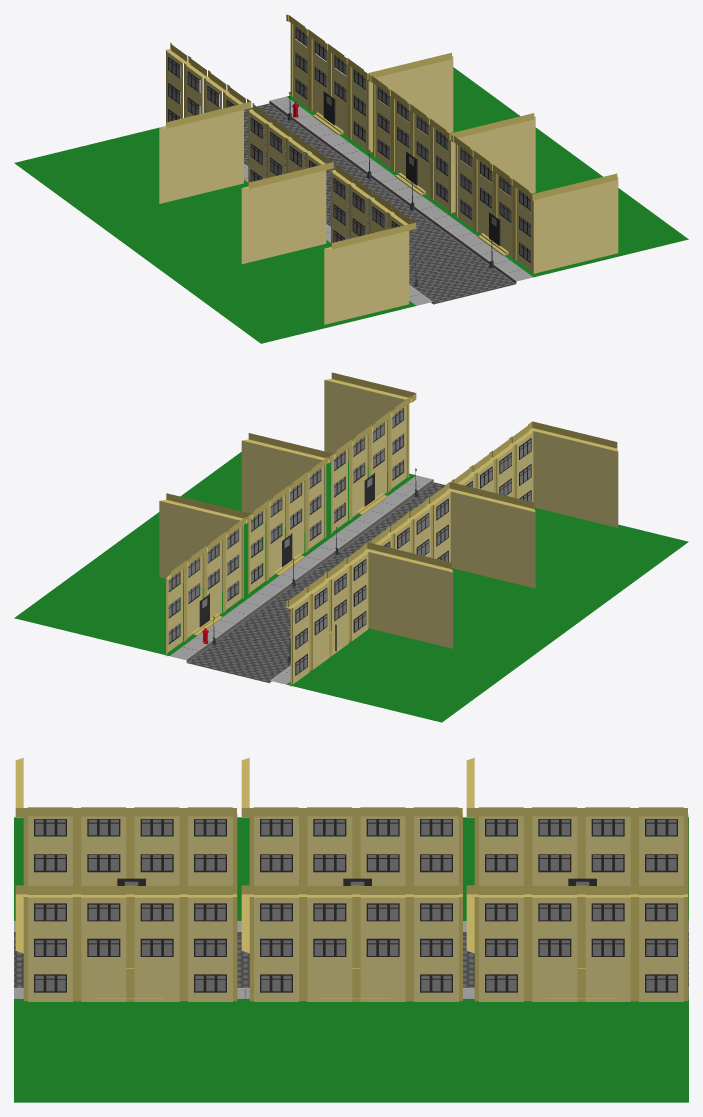
Rendered from house.glb.
The picture shows the model from 3 angles, top to bottom: view 1: azimuth 30°, elevation 25°; view 2: azimuth 150°, elevation 25°; view 3: azimuth 270°, elevation 25°; orthographic projection. The views are drawn at different scales.
Parts seen in each view (by area): view 1: Road, Building.003, Building.002, Building.004, Building.001, Building.006, Building.005; view 2: Road, Building.005, Building.006, Building.004, Building.001, Building.003, Building.002; view 3: Road, Building.002, Building.003, Building.001, Building.005, Building.006, Building.004.
Boxes of the visible parts, left/top/right/bottom form: Road: left=14, top=67, right=688, bottom=343; Building.003: left=451, top=135, right=618, bottom=273; Building.002: left=286, top=14, right=453, bottom=152; Building.004: left=241, top=103, right=333, bottom=264; Building.001: left=368, top=74, right=535, bottom=213; Building.006: left=324, top=163, right=416, bottom=324; Building.005: left=159, top=42, right=251, bottom=203; Road: left=14, top=452, right=688, bottom=722; Building.005: left=286, top=542, right=453, bottom=686; Building.006: left=451, top=421, right=618, bottom=527; Building.004: left=368, top=482, right=535, bottom=588; Building.001: left=241, top=433, right=333, bottom=594; Building.003: left=324, top=372, right=416, bottom=533; Building.002: left=159, top=493, right=251, bottom=656; Road: left=14, top=817, right=688, bottom=1102; Building.002: left=466, top=885, right=688, bottom=1001; Building.003: left=15, top=885, right=237, bottom=1001; Building.001: left=241, top=885, right=462, bottom=1001; Building.005: left=466, top=757, right=688, bottom=896; Building.006: left=15, top=757, right=237, bottom=896; Building.004: left=241, top=757, right=462, bottom=893.
Bounding box in the file's own units: 40 × 7.64 × 40.
2 materials, 2 textured.
